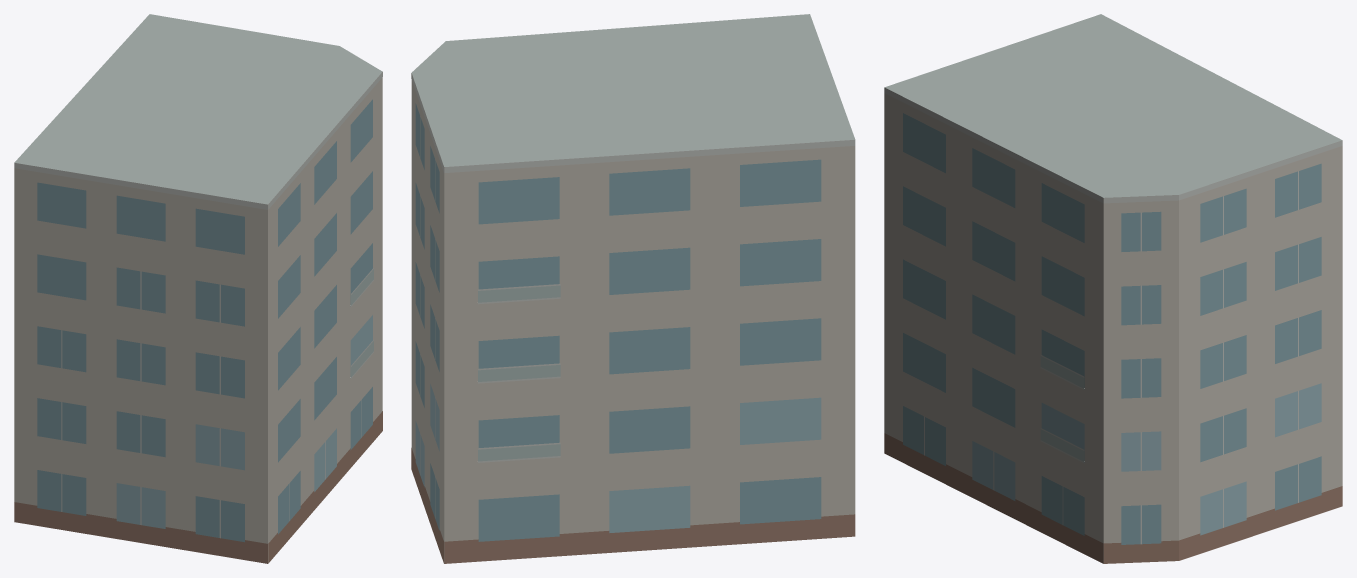
File: survey-upis-33024669.glb
The picture shows the model from 3 angles, left to right: view 1: azimuth 30°, elevation 25°; view 2: azimuth 150°, elevation 25°; view 3: azimuth 270°, elevation 25°; orthographic projection. The views are drawn at different scales.
Parts seen in each view (by area): view 1: survey-upis-33024669.tmp; view 2: survey-upis-33024669.tmp; view 3: survey-upis-33024669.tmp.
Boxes of the visible parts, x1,y1,x2,y2 form: survey-upis-33024669.tmp: [14, 14, 382, 563]; survey-upis-33024669.tmp: [411, 14, 855, 563]; survey-upis-33024669.tmp: [884, 14, 1342, 563].
Bounding box in the file's own units: 17.24 × 16 × 18.16.
